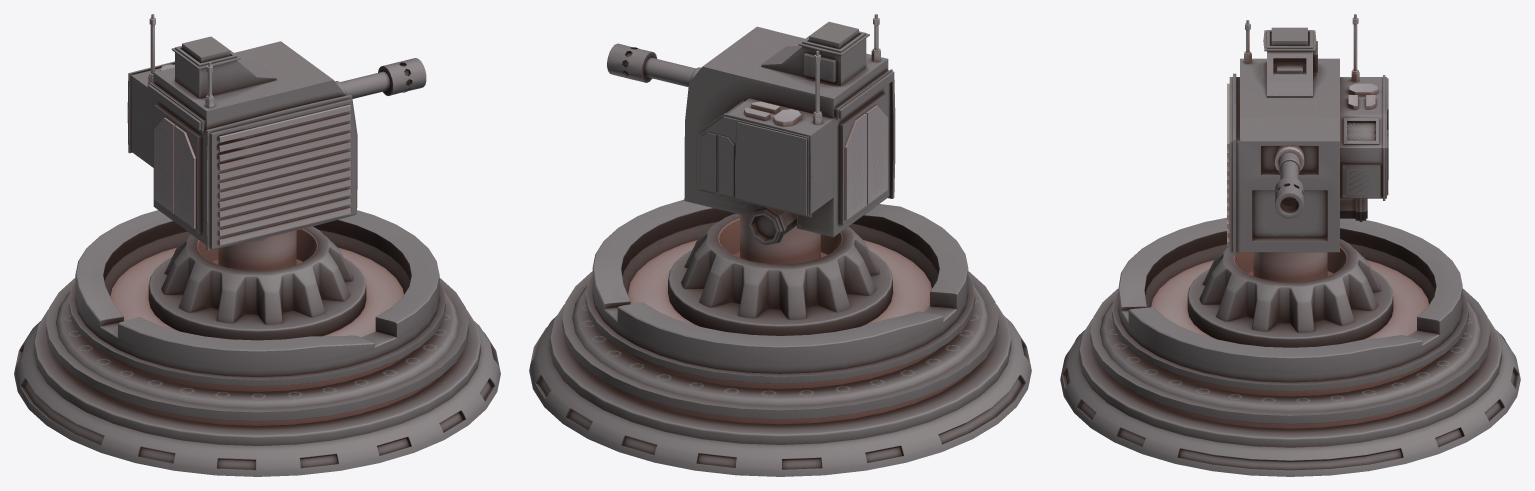
Rendered from Tarret.fbx.
The picture shows the model from 3 angles, left to right: view 1: azimuth 30°, elevation 25°; view 2: azimuth 150°, elevation 25°; view 3: azimuth 270°, elevation 25°; orthographic projection. The views are drawn at different scales.
Visible parts, largest first — view 1: Cylinder001.001; view 2: Cylinder001.001; view 3: Cylinder001.001.
Part boxes in pixels (x1,y1,x2,y2): Cylinder001.001: (14, 14, 500, 476); Cylinder001.001: (529, 14, 1031, 476); Cylinder001.001: (1060, 14, 1520, 476).
Size of the model in its own units: 3.62 by 2.88 by 3.62.
